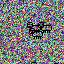sheep: (38, 22, 52, 34), (27, 22, 41, 33), (29, 28, 43, 39)
